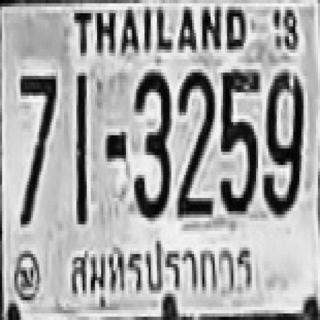N01: (74, 71, 87, 223)
N02: (176, 69, 214, 214)
N03: (132, 68, 169, 216)
N05: (219, 66, 258, 211)
N07: (19, 73, 56, 221), (19, 73, 56, 181)
N09: (263, 68, 302, 213)
P57: (63, 235, 259, 313)
